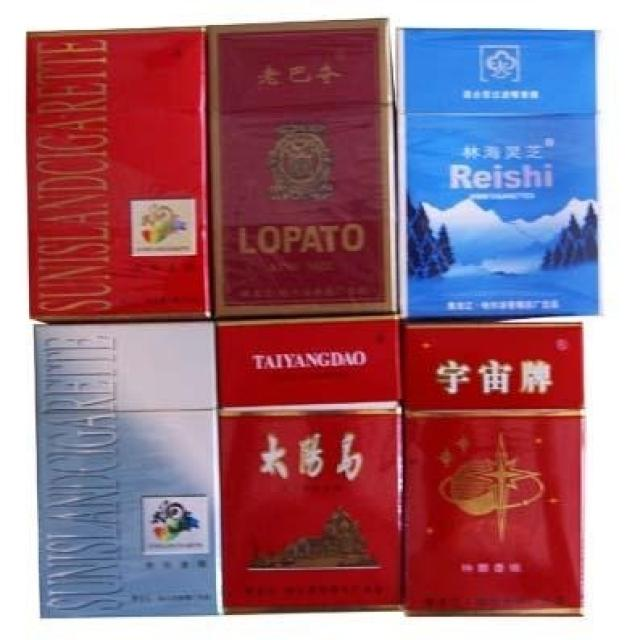box: (395, 28, 600, 324), (206, 18, 398, 322), (34, 322, 224, 620), (216, 314, 403, 615), (26, 25, 214, 324), (400, 322, 587, 618)
